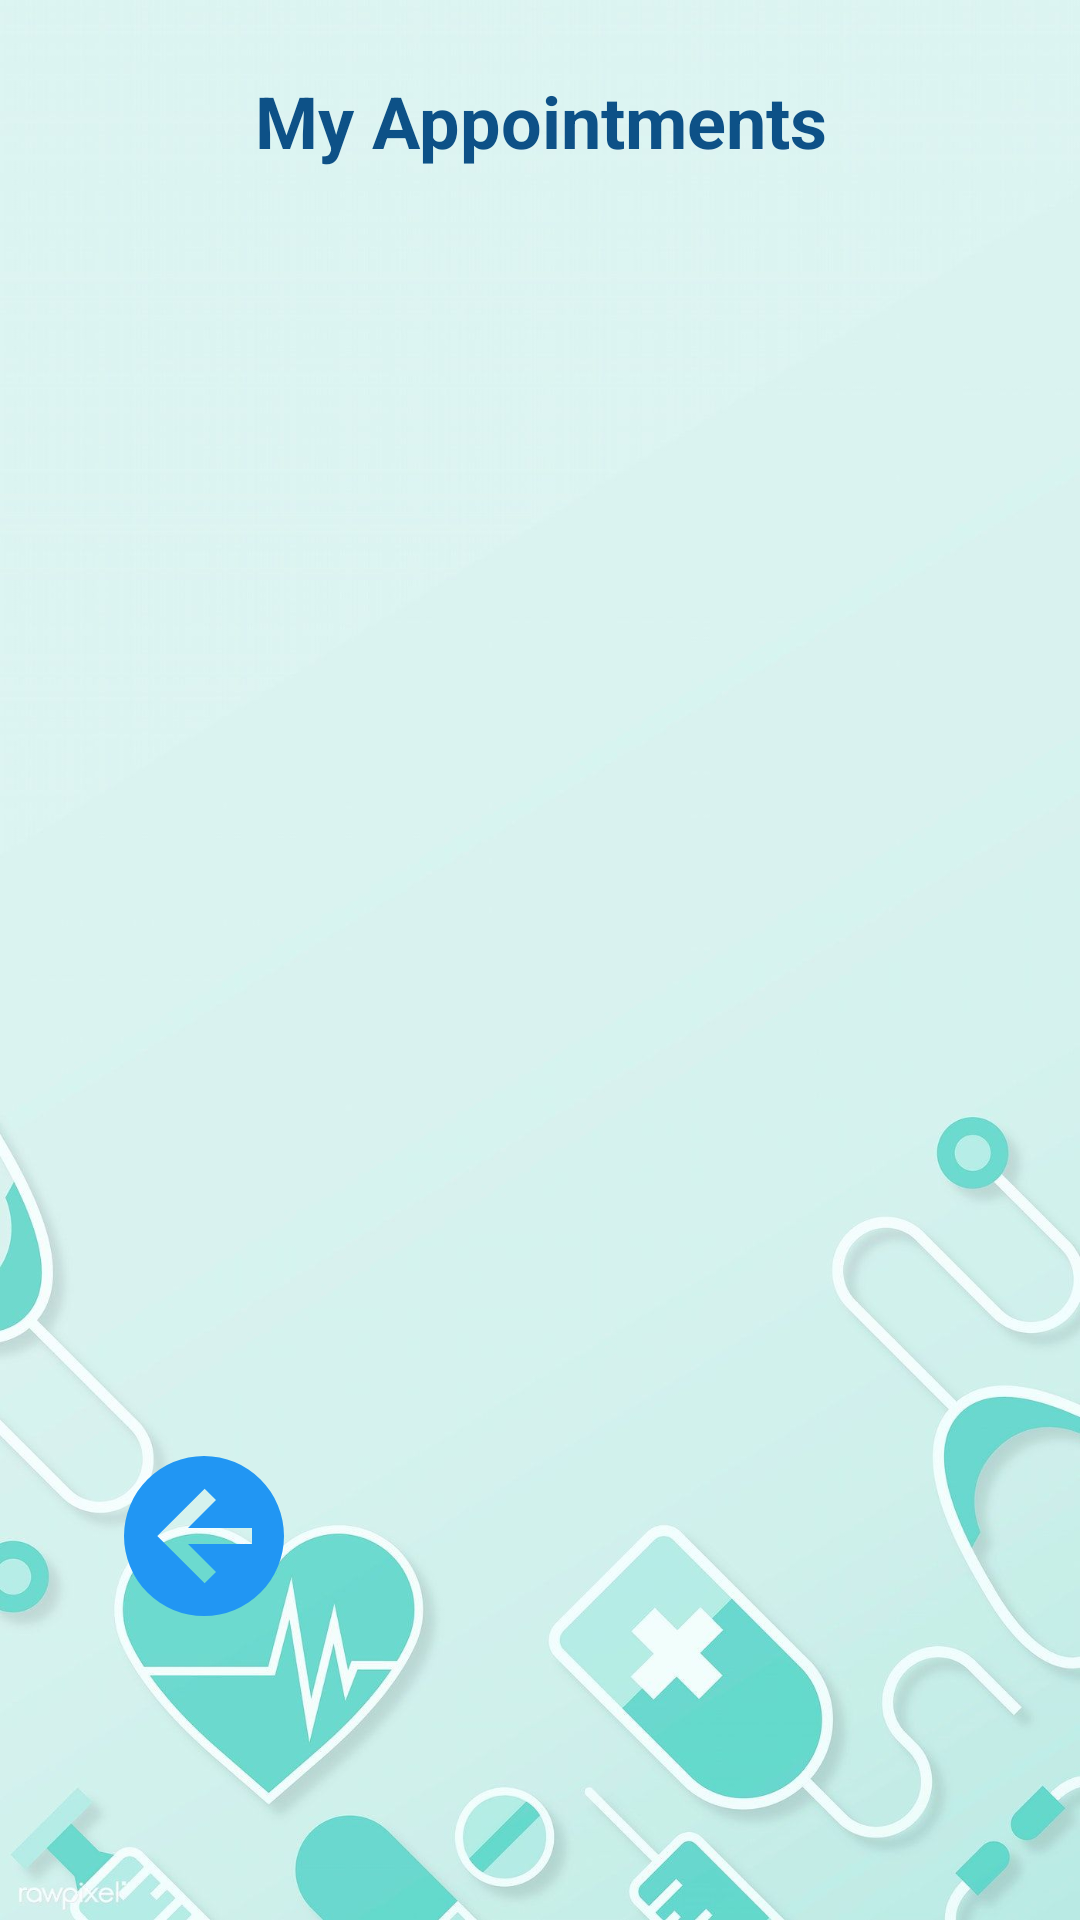

Icon bounding boxes for this 1080 x 1920 phone screenshot, format [x1, y1, x2, y2]:
arrow back: [108, 1440, 300, 1632]
